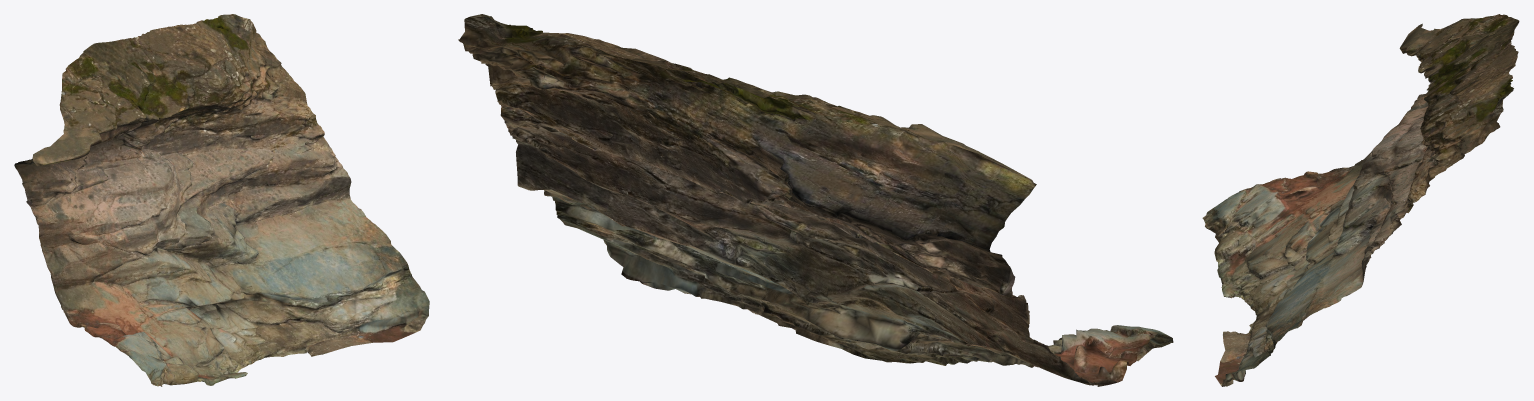
File: rock_face_01-lod0.glb
3 renders of one model, left to right at view 1: azimuth 30°, elevation 25°; view 2: azimuth 150°, elevation 25°; view 3: azimuth 270°, elevation 25°, orthographic. The views are drawn at different scales.
Visible parts, largest first — view 1: rock_face_01; view 2: rock_face_01; view 3: rock_face_01.
Part boxes in pixels (bbox=[...]): rock_face_01: bbox=[14, 14, 429, 386]; rock_face_01: bbox=[458, 14, 1173, 386]; rock_face_01: bbox=[1202, 14, 1519, 386].
Bounding box in the file's own units: 4.95 × 3.56 × 3.83.
Materials: 1 (1 with a texture image).
